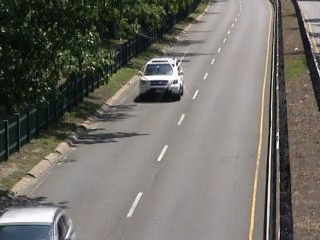car: (135, 54, 186, 105)
